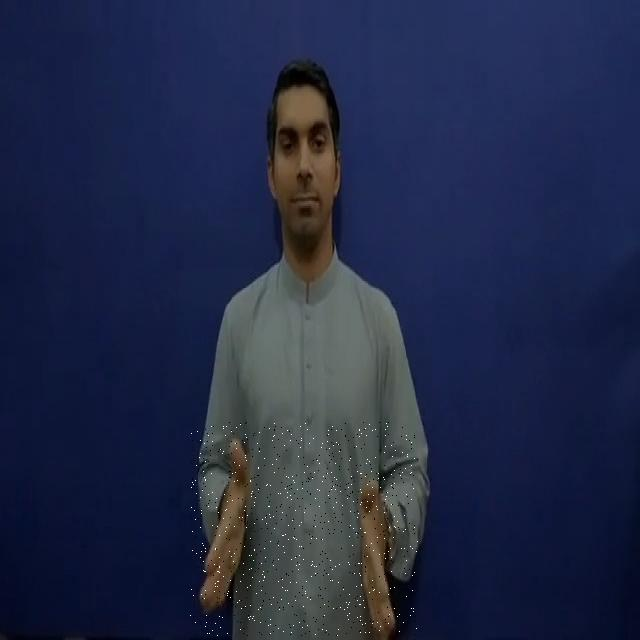manager: (190, 422, 418, 636)
